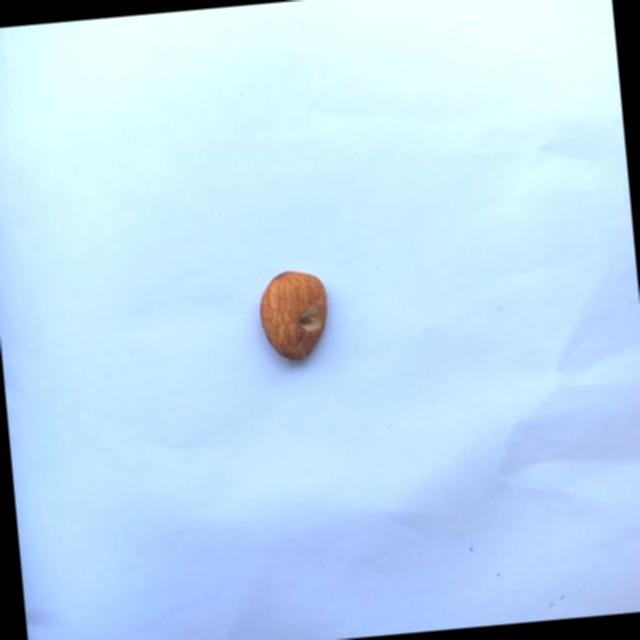grade3: (254, 264, 338, 369)
